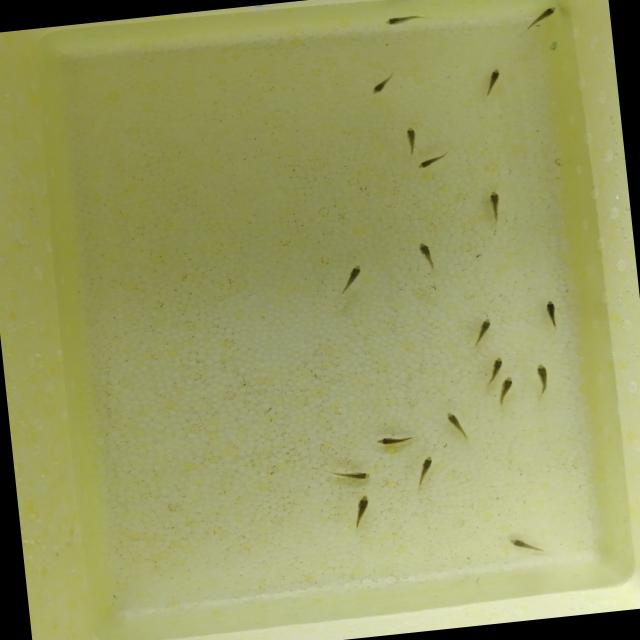fingerling: (408, 150, 456, 173), (521, 5, 561, 32), (364, 70, 402, 98), (352, 488, 381, 522), (484, 187, 509, 224), (502, 534, 544, 555), (412, 234, 436, 270), (382, 10, 424, 30), (340, 260, 368, 289), (481, 66, 509, 94), (398, 119, 421, 153), (338, 464, 377, 484), (470, 316, 500, 340), (370, 432, 417, 447), (494, 373, 518, 402), (541, 296, 564, 326), (414, 453, 438, 481), (445, 408, 465, 437), (534, 362, 554, 391), (486, 354, 509, 377)
